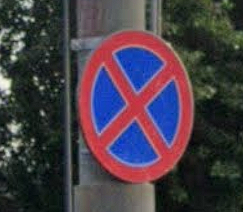oprirea_interzisa: (73, 26, 196, 185)
